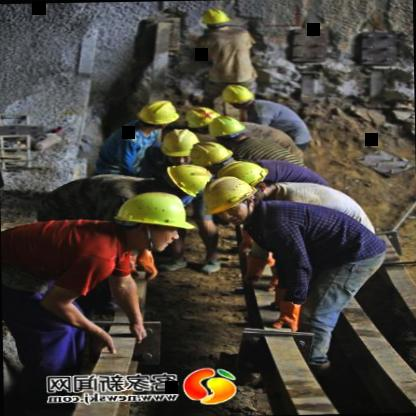helmet: (119, 188, 192, 256), (199, 169, 268, 219), (145, 163, 210, 194), (136, 98, 182, 136), (184, 140, 242, 170), (220, 158, 267, 194), (162, 127, 198, 164), (218, 82, 254, 116), (210, 115, 248, 147), (197, 7, 230, 36)
